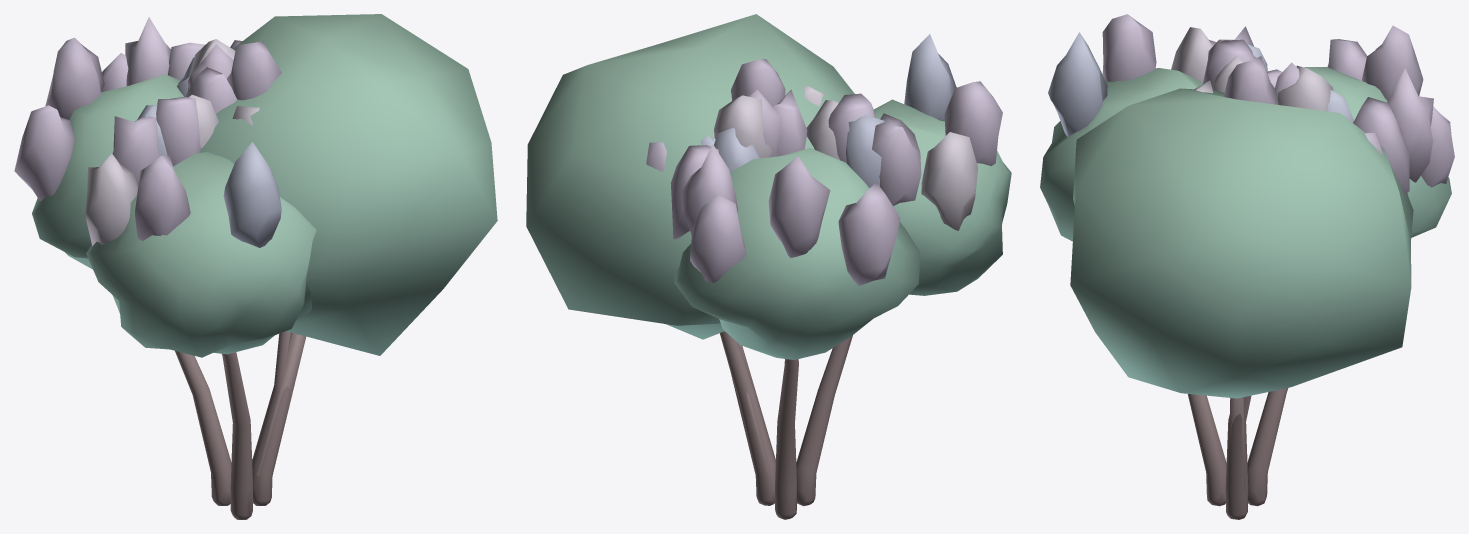
The model's file is lilac_tree.glb.
3 views of the same model, side by side, from view 1: azimuth 30°, elevation 25°; view 2: azimuth 150°, elevation 25°; view 3: azimuth 270°, elevation 25° (orthographic). The views are drawn at different scales.
Parts seen in each view (by area): view 1: near, far; view 2: near, far; view 3: far, near.
Boxes of the visible parts, x1,y1,x2,y2 form: near: (14,17,316,519); far: (199,14,497,476); near: (646,34,1011,519); far: (526,14,854,475); far: (1070,88,1413,492); near: (1040,14,1454,519).
Size of the model in its own units: 5.4 by 5.76 by 4.71.
